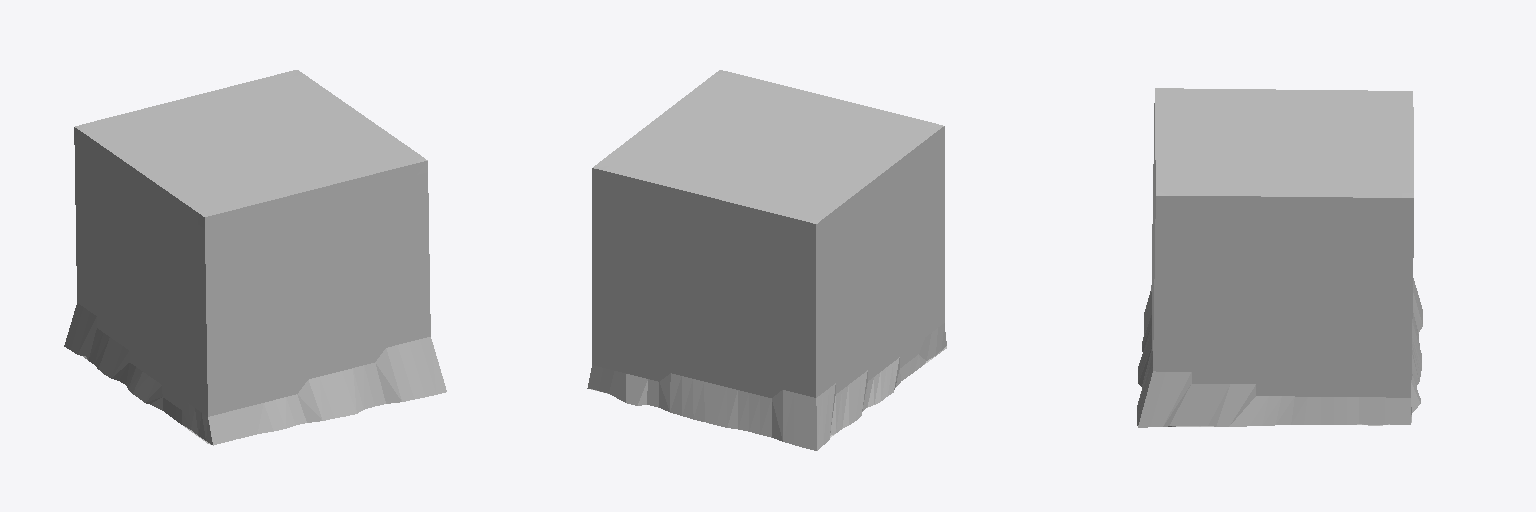
File: mod0063.obj
The picture shows the model from 3 angles: view 1: azimuth 30°, elevation 25°; view 2: azimuth 150°, elevation 25°; view 3: azimuth 270°, elevation 25°; orthographic projection.
Visible parts, largest first — view 1: Box001; view 2: Box001; view 3: Box001.
Part boxes in pixels (left/top/right/bottom): Box001: left=64, top=70, right=446, bottom=445; Box001: left=587, top=70, right=946, bottom=450; Box001: left=1137, top=88, right=1422, bottom=427.
Bounding box in the file's own units: 0.5799 × 0.5256 × 0.5979.